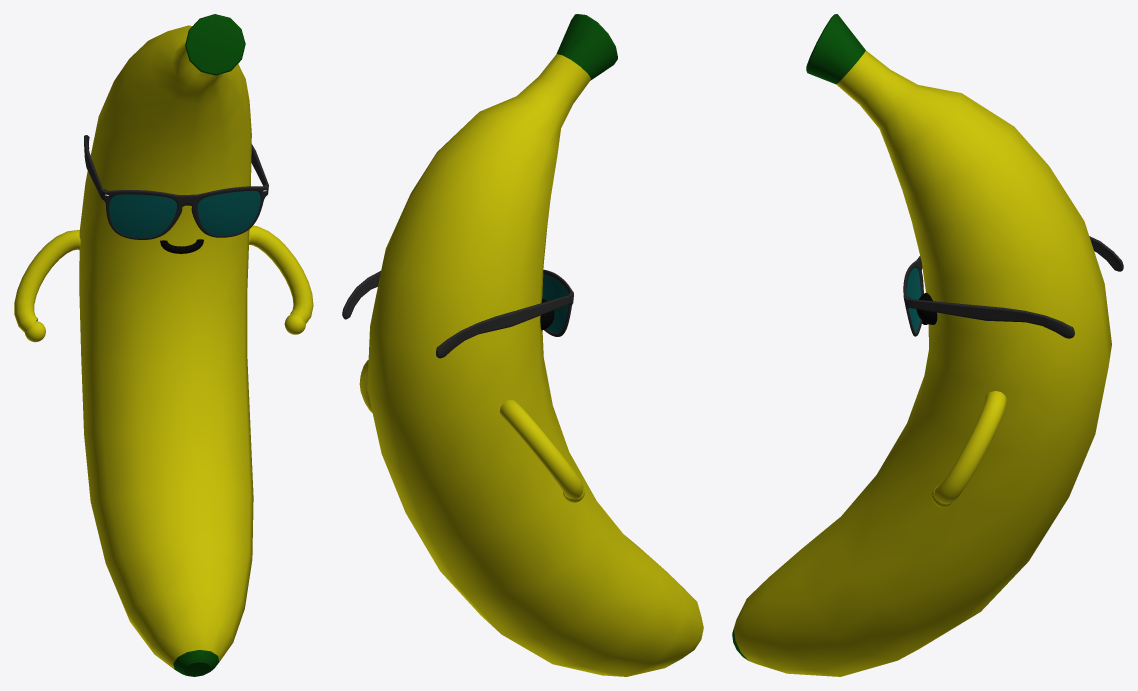
File: lv3bananaBoy.glb
3 views of the same model, side by side, from view 1: azimuth 30°, elevation 25°; view 2: azimuth 150°, elevation 25°; view 3: azimuth 270°, elevation 25° (orthographic). The views are drawn at different scales.
Visible parts, largest first — view 1: Banana, Sunglasses_Plane.011, 球.002, Banana.001, Banana.002; view 2: Banana, Sunglasses_Plane.011, 球.002, Banana.001; view 3: Banana, Sunglasses_Plane.011, 球.002, Banana.001.
Boxes of the visible parts, bbox=[...] form: Banana: bbox=[79, 25, 253, 669]; Sunglasses_Plane.011: bbox=[84, 135, 268, 239]; 球.002: bbox=[14, 225, 313, 342]; Banana.001: bbox=[185, 14, 245, 75]; Banana.002: bbox=[173, 650, 219, 676]; Banana: bbox=[367, 54, 703, 676]; Sunglasses_Plane.011: bbox=[342, 269, 573, 358]; 球.002: bbox=[359, 360, 584, 502]; Banana.001: bbox=[556, 14, 617, 80]; Banana: bbox=[733, 50, 1111, 676]; Sunglasses_Plane.011: bbox=[903, 236, 1123, 338]; 球.002: bbox=[931, 391, 1006, 507]; Banana.001: bbox=[806, 14, 865, 84].
Bounding box in the file's own units: 0.7928 × 1.89 × 0.9947.
